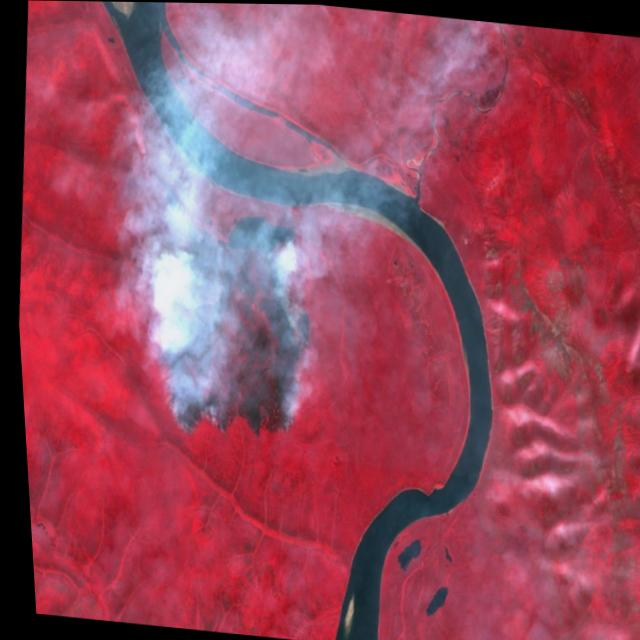fire: (134, 230, 319, 446)
